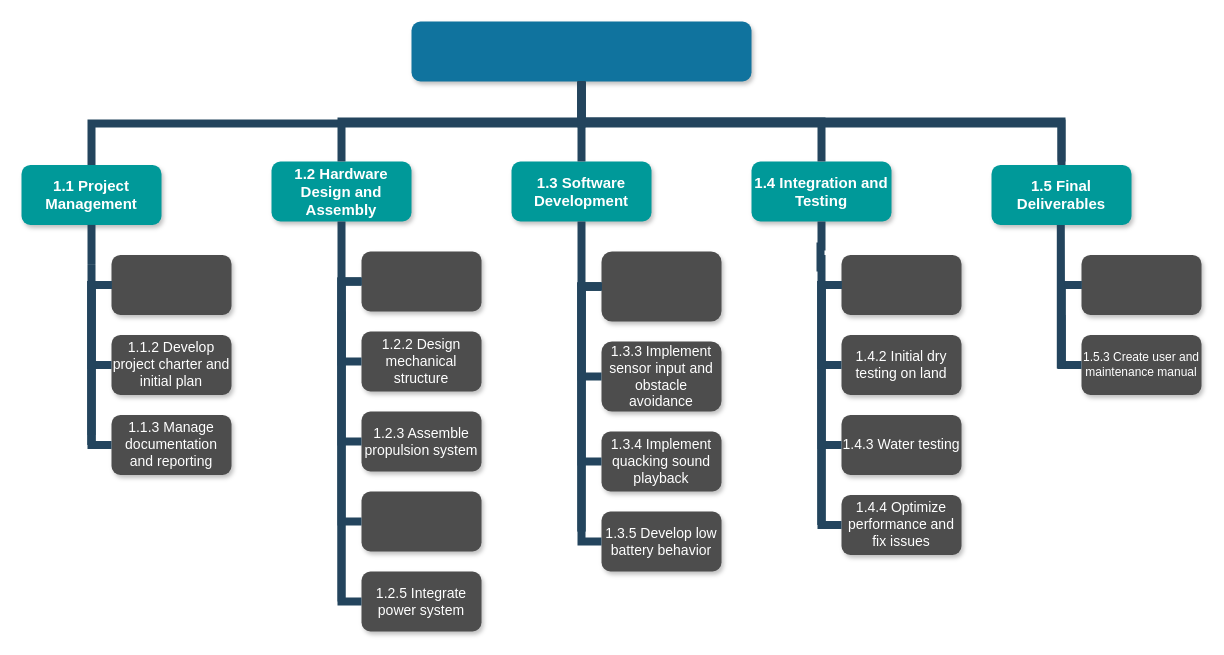
This 1224x655 diagram has some shape labels left out. The centre of each missing label's shape, as x and y in pixels:
"1.1.1 Define project goals and success criteria" goes at (172,285).
"1.2.1 Select and document required components" goes at (422,282).
"1.2.4 Integrate sensors" goes at (422,522).
"1.3.2 Develop basic motor and movement control logic" goes at (662,287).
"1.4.1 Integrate hardware and software systems" goes at (902,285).
"1.5.1 Prepare technical documentation" goes at (1142,285).
"Amphibious Robotic Duck" goes at (582,52).
